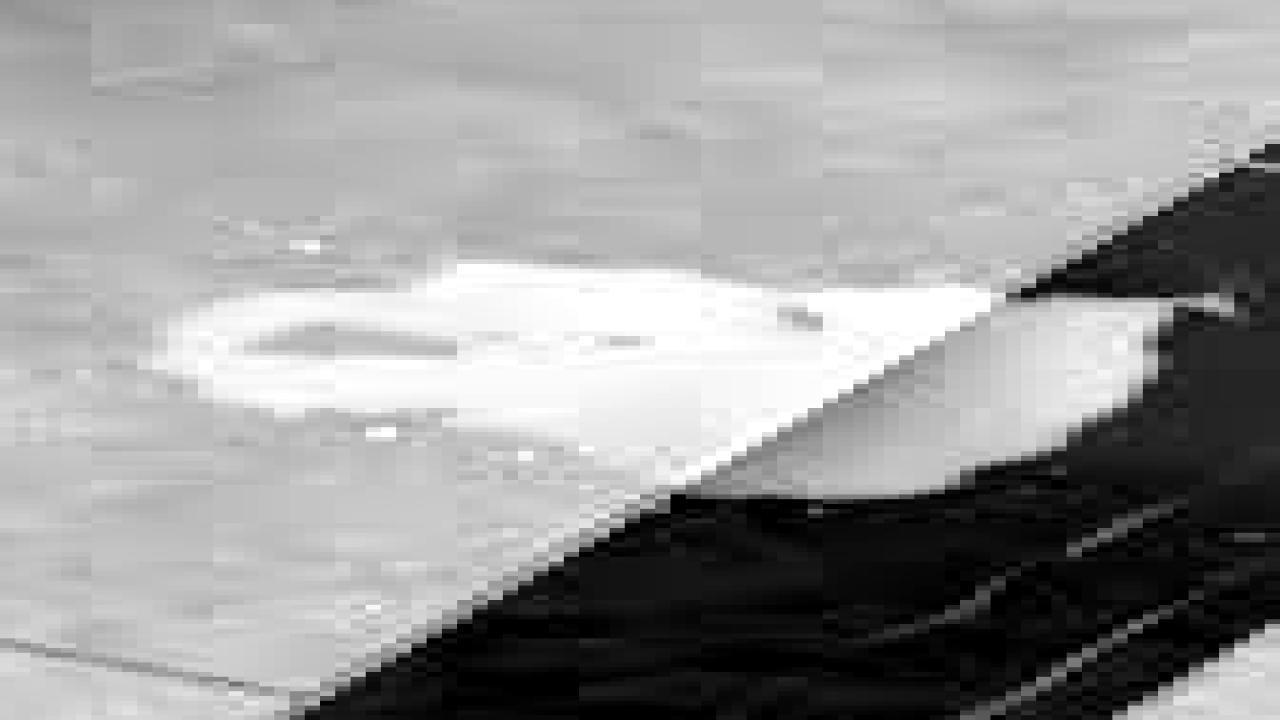drinks Stains: (0, 154, 1250, 495)
